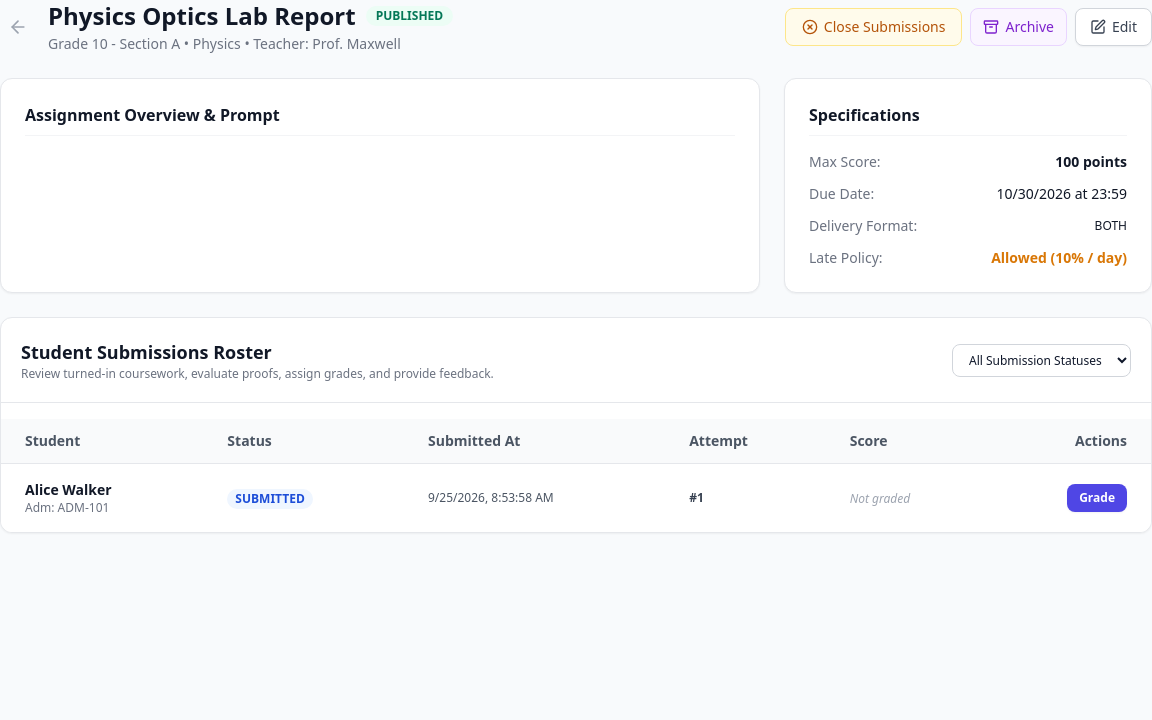
Phase 11: Assignment & Homework Management Web UI Integration › should open GradeSubmissionModal and submit teacher score and feedback
Click the button "Grade" at (1097, 498), box [1067, 484, 1127, 512]
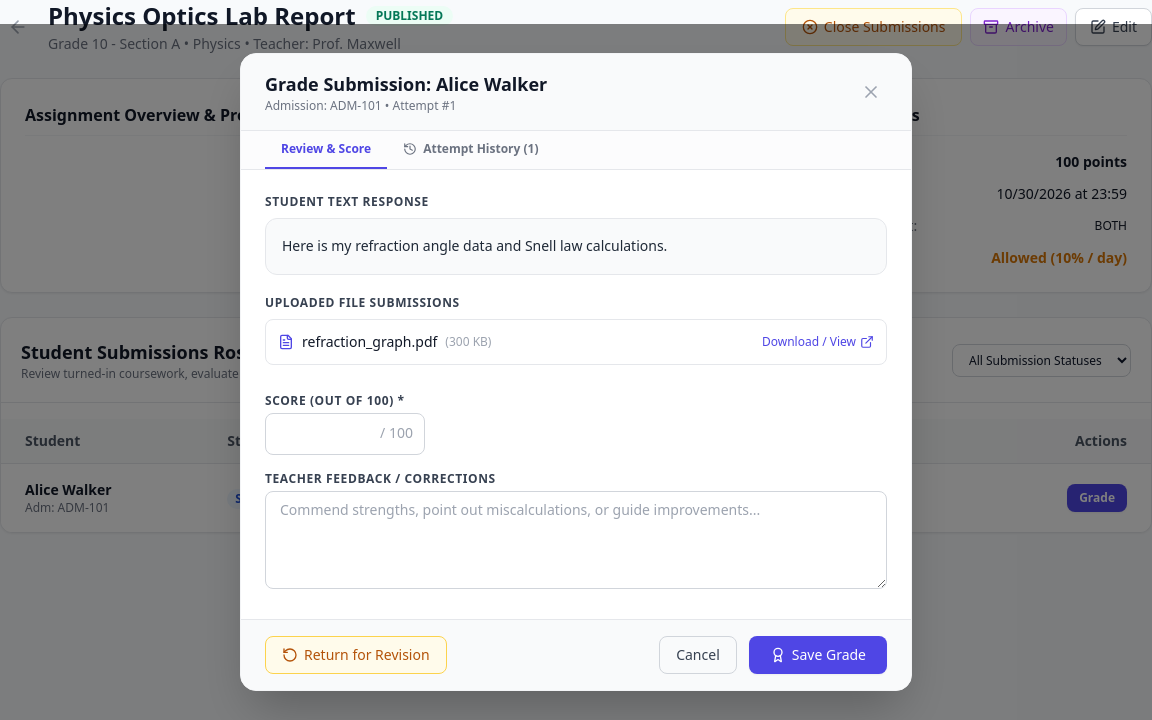
Result: the heading "Grade Submission: Alice Walker" is shown at [265, 70, 547, 98]
Type "95" into the number field at (345, 434), box [265, 413, 425, 455]
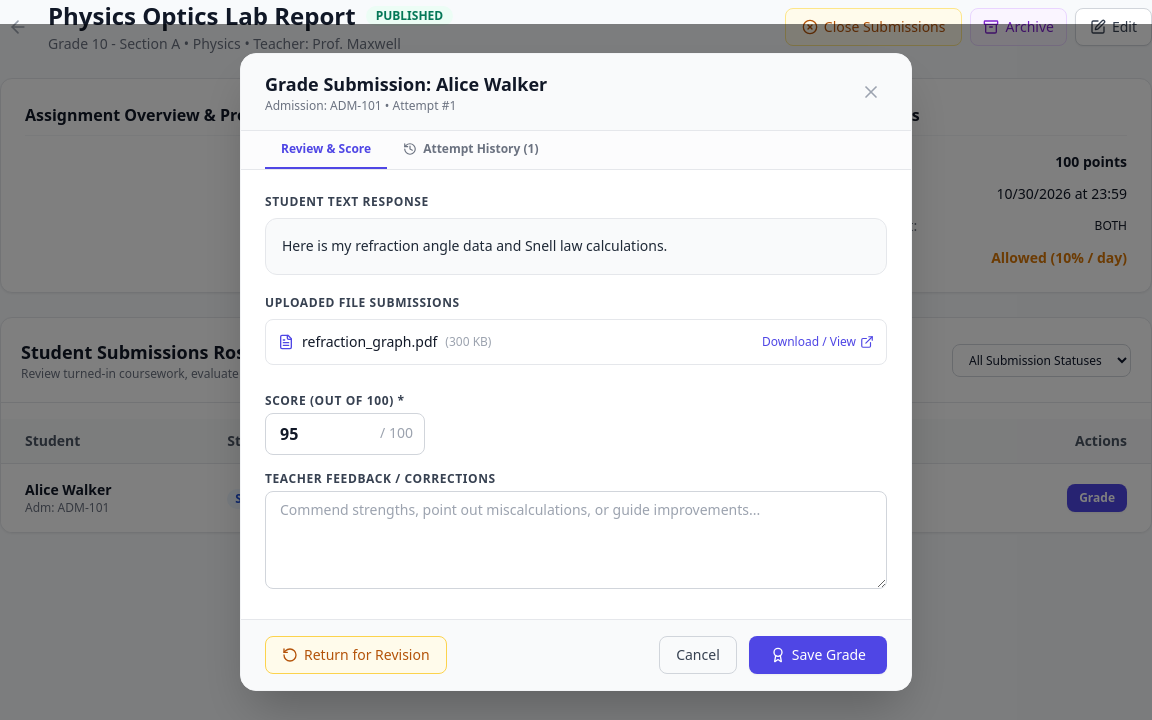
Replace the text in the text box with placeholder "Commend strengths" with "Superb analysis of chromatic aberration!" at (576, 540), box [265, 491, 887, 589]
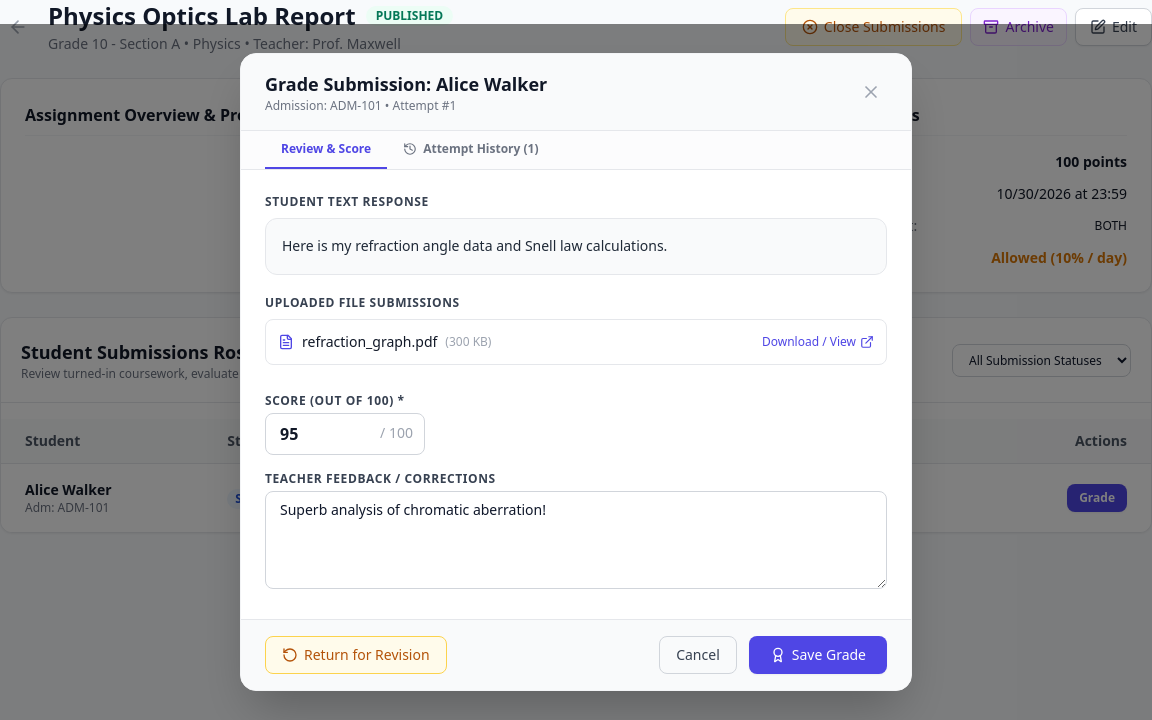
Click the button "Save Grade" at (818, 655), box [749, 636, 887, 674]
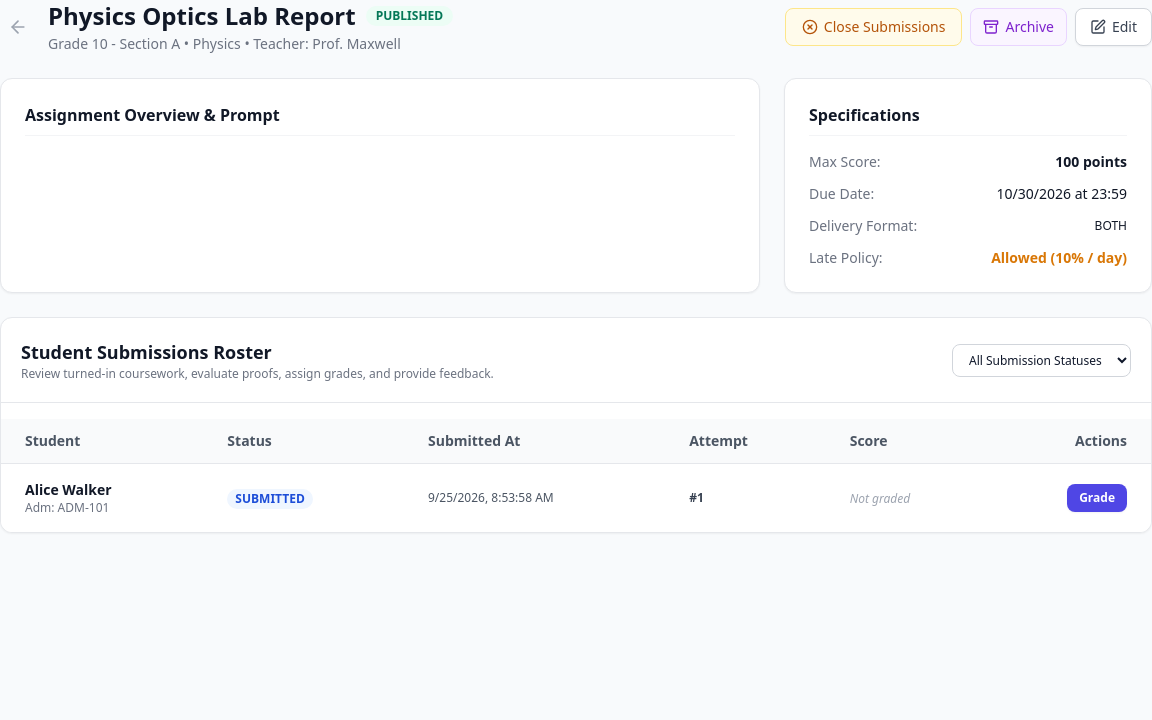
Result: the heading "Grade Submission: Alice Walker" is gone
